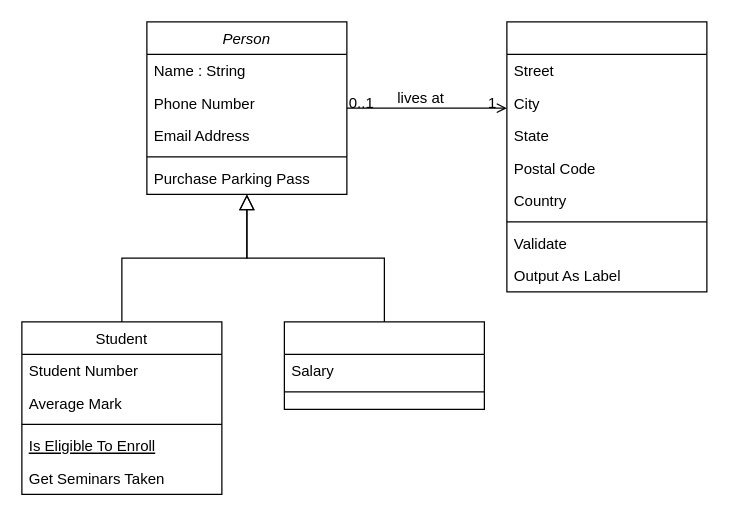
Some shapes in this 729 by 520 pixel diagram are drawn without their labels. Each missing label, with the box of its shape:
Address: (506, 21, 707, 292)
Professor: (283, 321, 484, 409)
